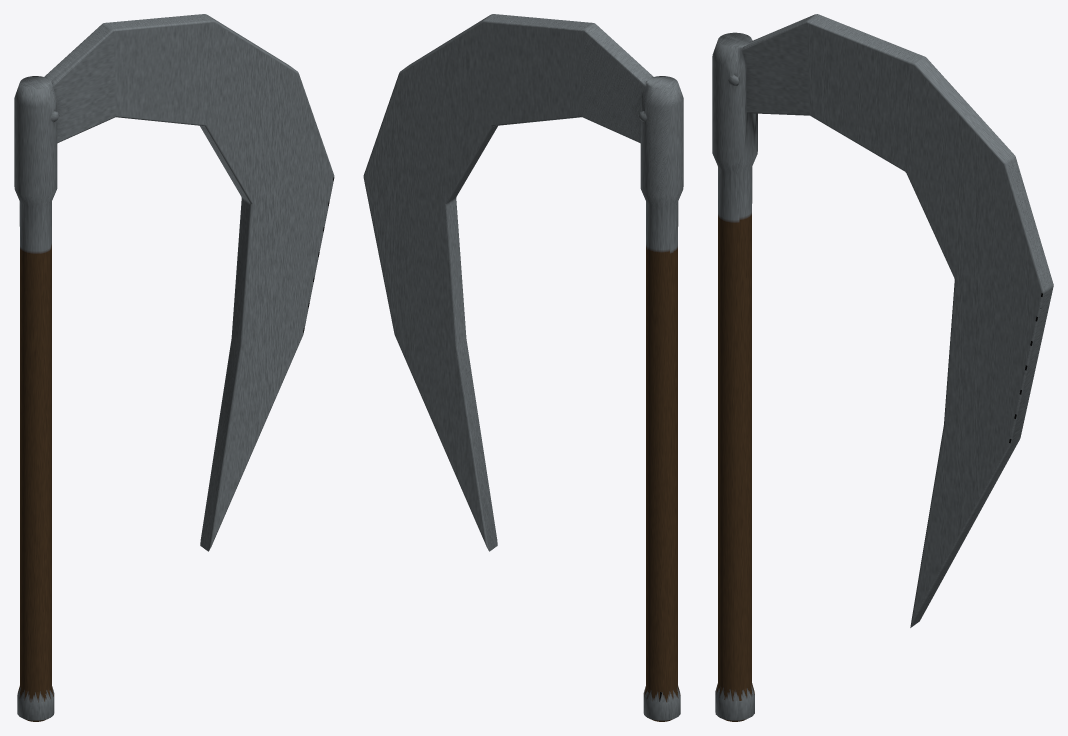
The model's file is reaper-plain.glb.
3 renders of one model, left to right at view 1: azimuth 30°, elevation 25°; view 2: azimuth 150°, elevation 25°; view 3: azimuth 330°, elevation 25°, orthographic. The views are drawn at different scales.
Parts seen in each view (by area): view 1: reaper-plain; view 2: reaper-plain; view 3: reaper-plain.
Boxes of the visible parts, left/top/right/bottom form: reaper-plain: left=14, top=14, right=334, bottom=721; reaper-plain: left=363, top=14, right=683, bottom=721; reaper-plain: left=712, top=14, right=1053, bottom=721.
Size of the model in its own units: 0.5205 by 1.07 by 0.0654.
1 material, 1 textured.
